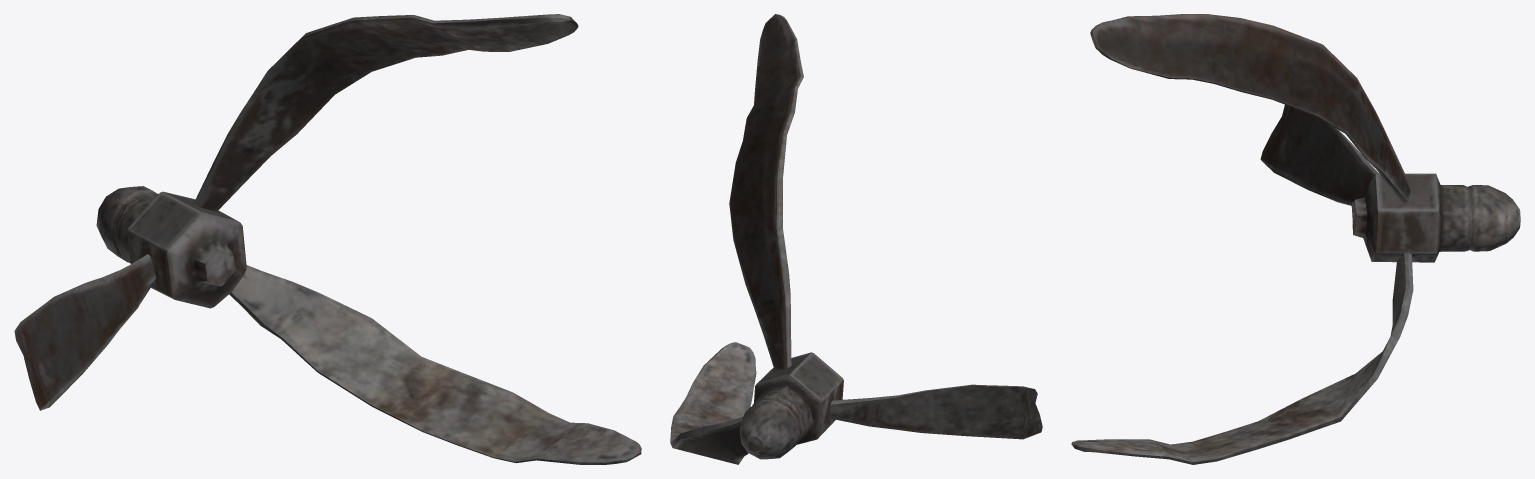
Rendered from plane_wreckage_blades_bended2.dae.
3 renders of one model, left to right at view 1: azimuth 30°, elevation 25°; view 2: azimuth 150°, elevation 25°; view 3: azimuth 270°, elevation 25°, orthographic. The views are drawn at different scales.
Visible parts, largest first — view 1: plane_wreckage_blades_bended2; view 2: plane_wreckage_blades_bended2; view 3: plane_wreckage_blades_bended2.
Part boxes in pixels (x1,y1,x2,y2): plane_wreckage_blades_bended2: (14, 14, 641, 464); plane_wreckage_blades_bended2: (670, 14, 1042, 464); plane_wreckage_blades_bended2: (1071, 14, 1520, 464).
Bounding box in the file's own units: 243 × 218 × 210.
